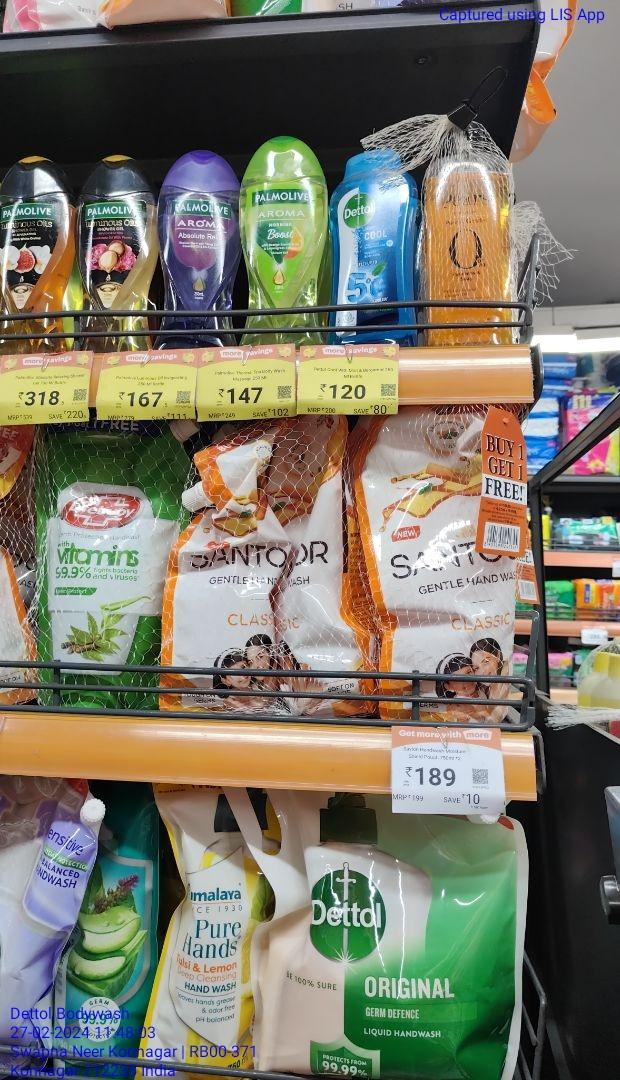Dettol_Bodywash_Cool: (332, 151, 416, 344)
Palmolive_Aroma_Morning_Tonic_Shower_Gel_250ML: (241, 137, 328, 346)
Palmolive_Aroma_Relax_250ML: (159, 147, 238, 352)
Palmolive_Luminous_Oils_Invigorating_Macadamia_Oil_With_Peony_250ML: (80, 152, 153, 357)
Palmolive_Luminous_Oils_With_White_Orchid_Shower_Gel_250ML: (0, 154, 74, 355)
